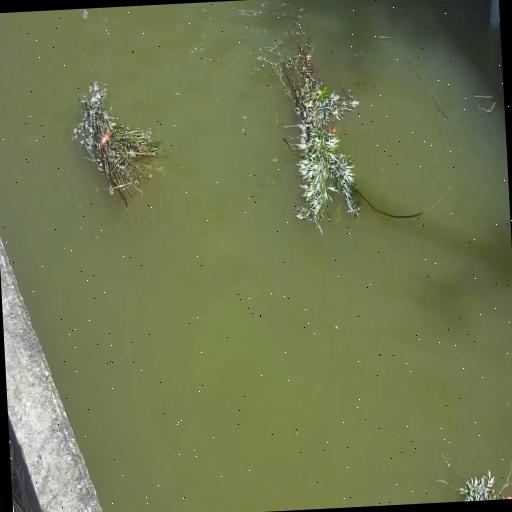twig: (270, 30, 364, 234), (71, 77, 166, 216), (433, 446, 512, 502)
